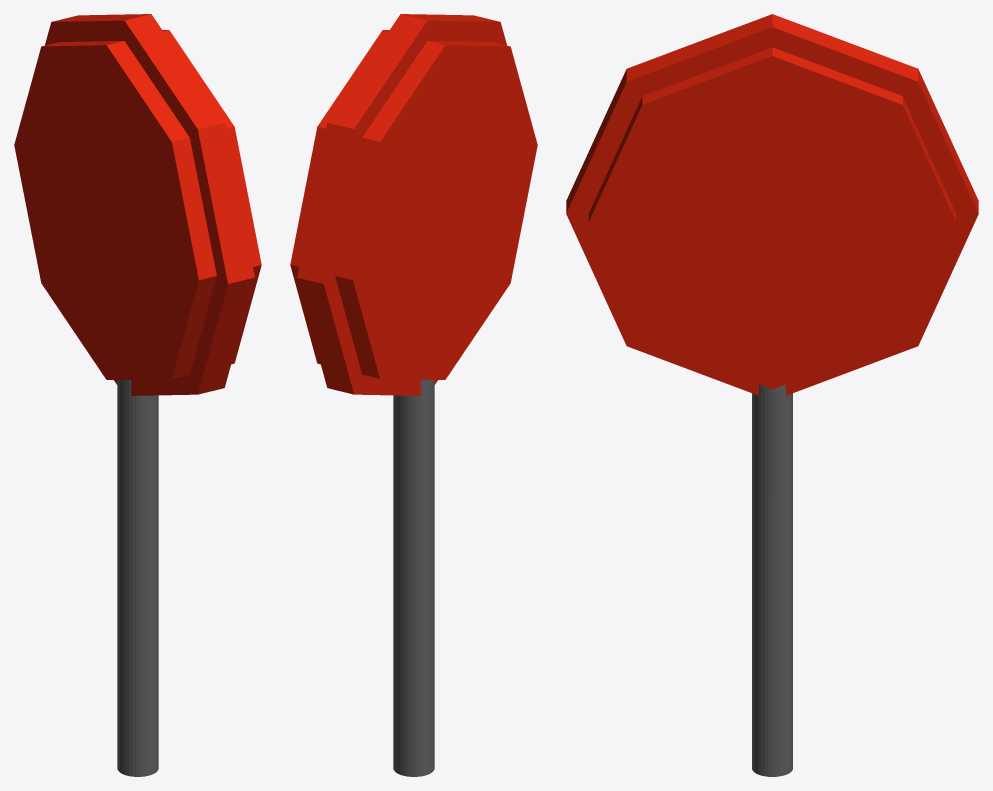
File: StopSign.fbx
3 renders of one model, left to right at view 1: azimuth 30°, elevation 25°; view 2: azimuth 150°, elevation 25°; view 3: azimuth 270°, elevation 25°, orthographic.
Parts seen in each view (by area): view 1: Cylinder.001, Cylinder; view 2: Cylinder.001, Cylinder; view 3: Cylinder.001, Cylinder.
Part boxes in pixels (box(x1,y1,x2,y2)): Cylinder.001: box(14, 14, 261, 395); Cylinder: box(117, 379, 158, 776); Cylinder.001: box(290, 14, 537, 395); Cylinder: box(393, 379, 434, 776); Cylinder.001: box(566, 14, 978, 395); Cylinder: box(752, 384, 792, 776).
Bounding box in the file's own units: 3.5 × 40 × 20.
